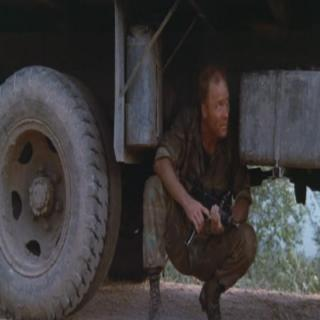gun: (176, 170, 244, 256)
